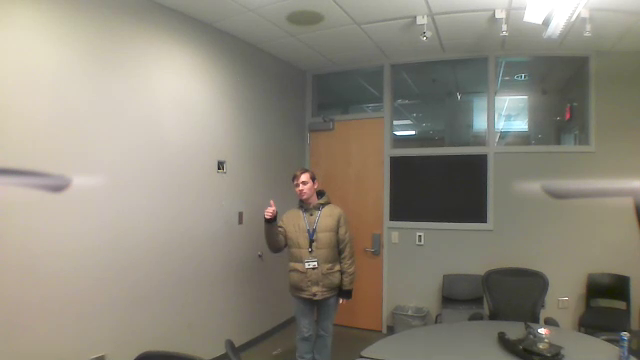up: (260, 196, 277, 224)
